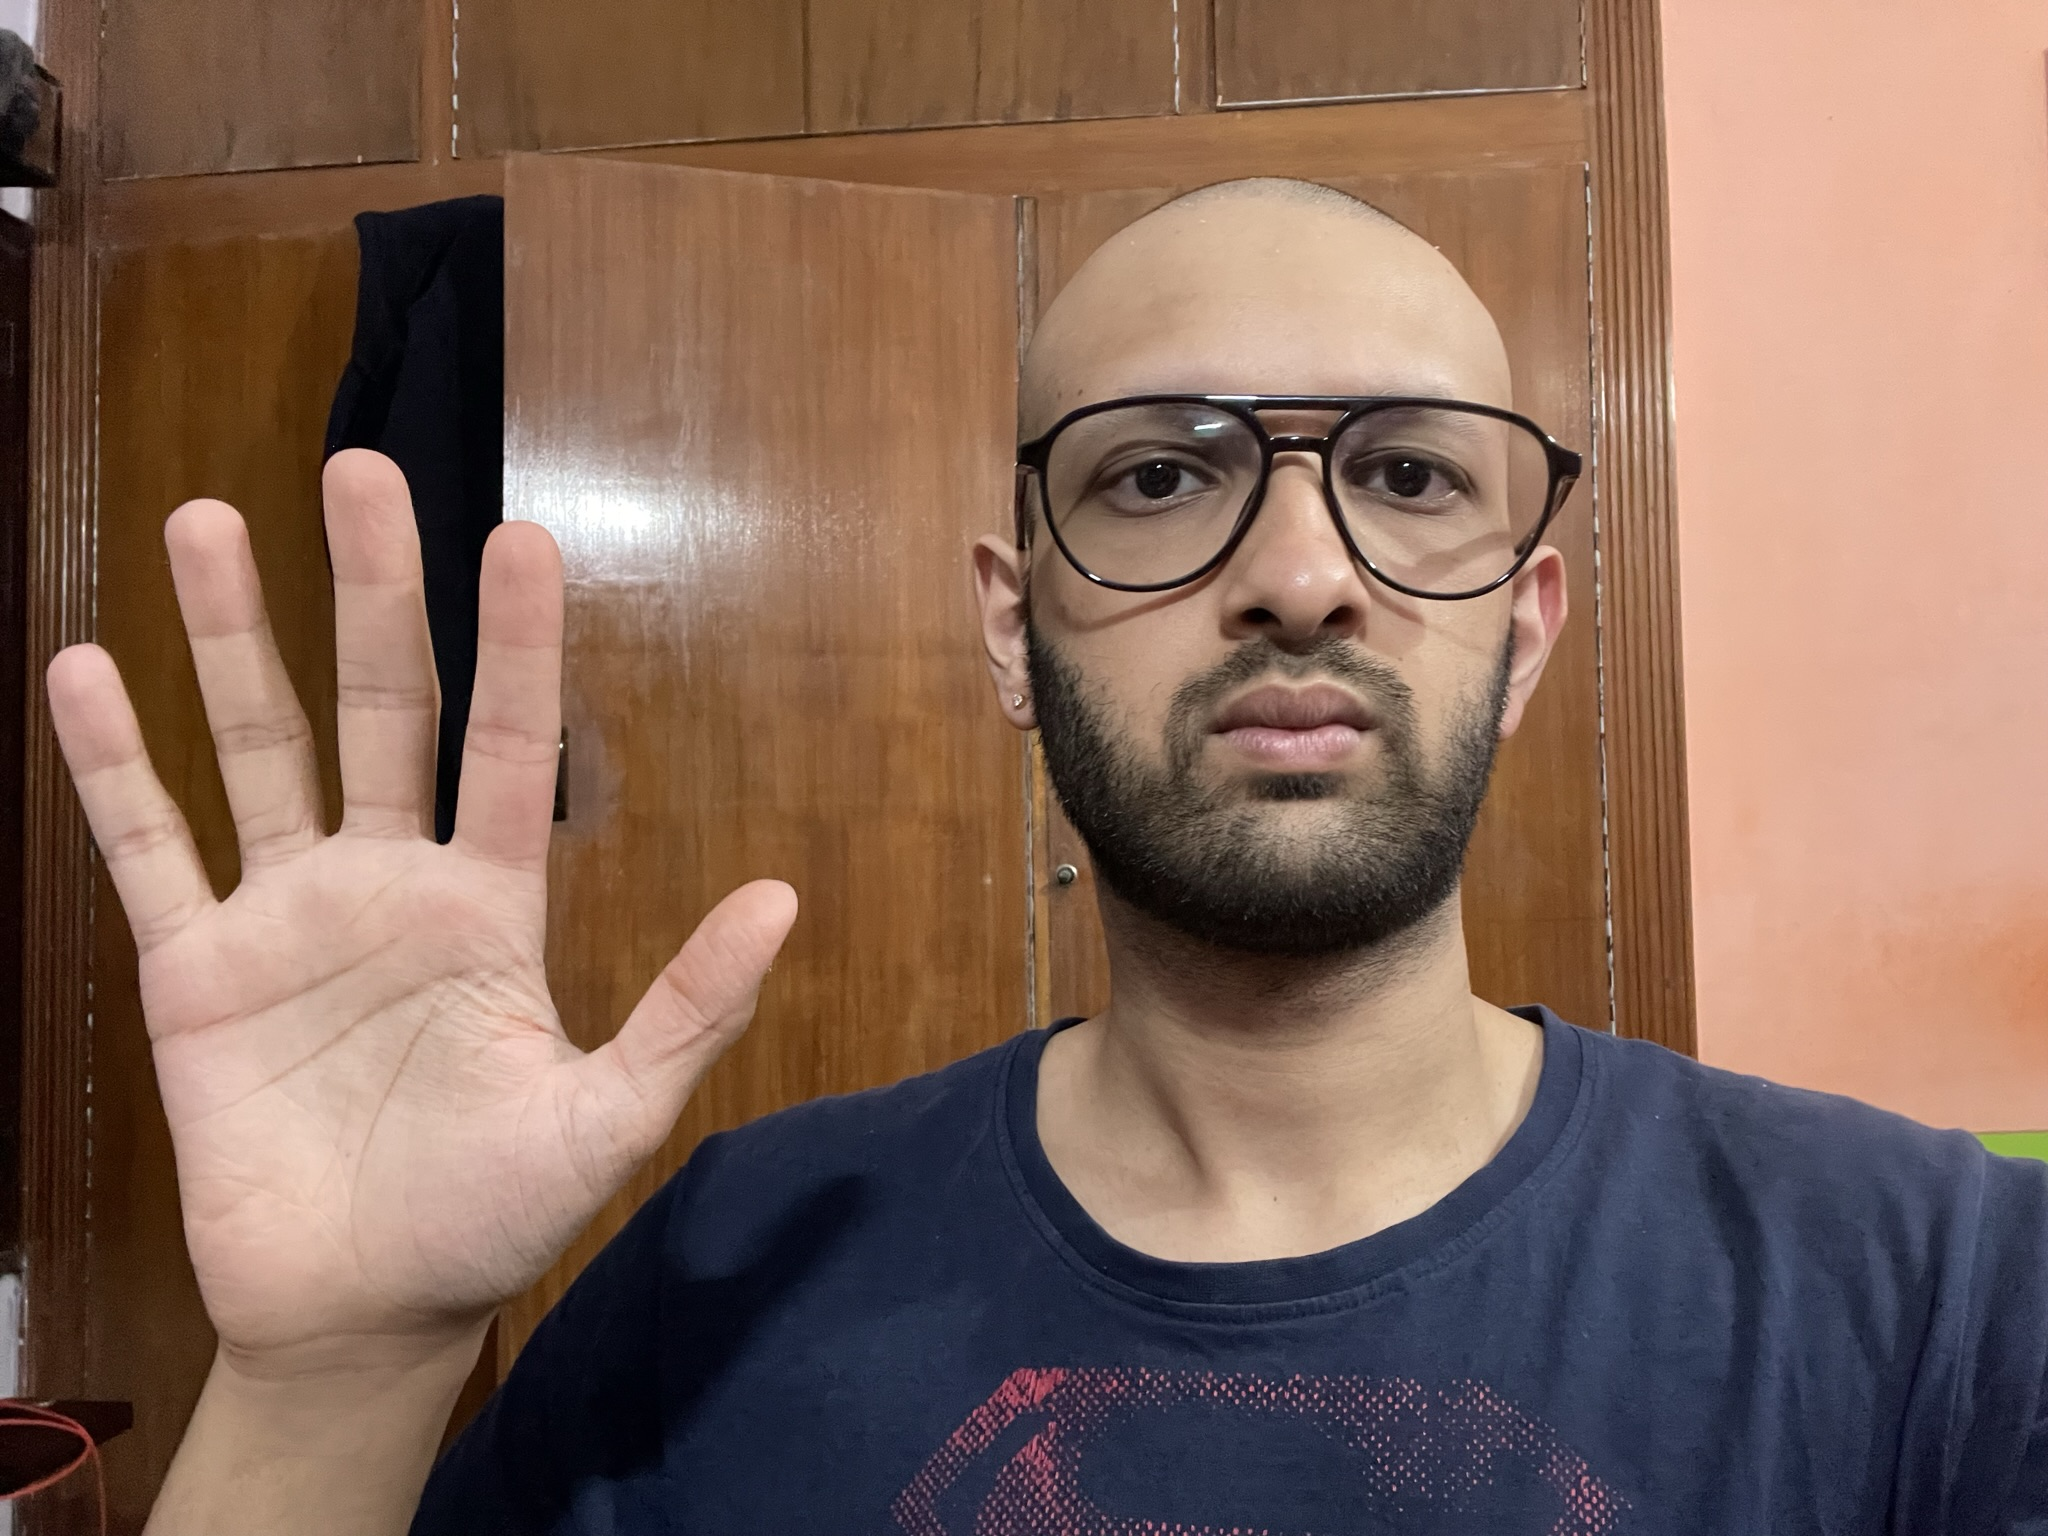Hello: (44, 436, 806, 1342)
